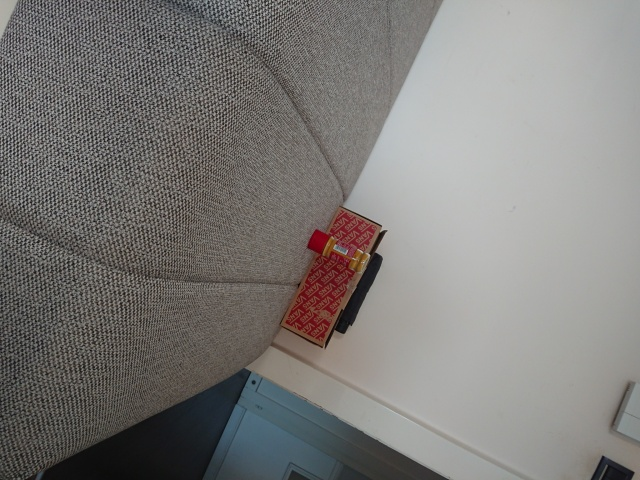Kotanyi Curry Spices Mix 70g: (305, 227, 371, 276)
